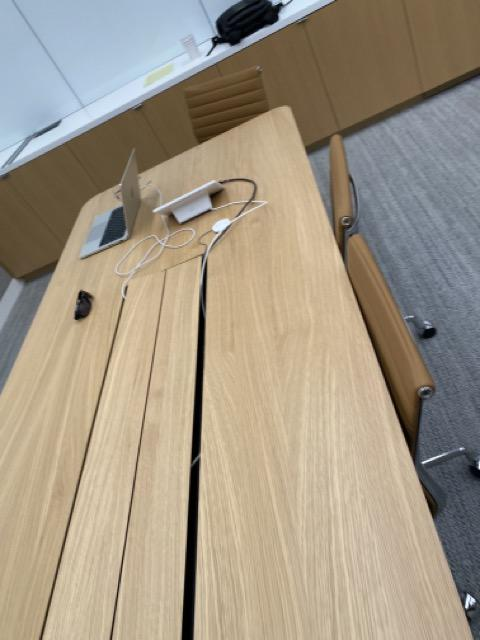Sunglasses: (73, 288, 96, 322)
